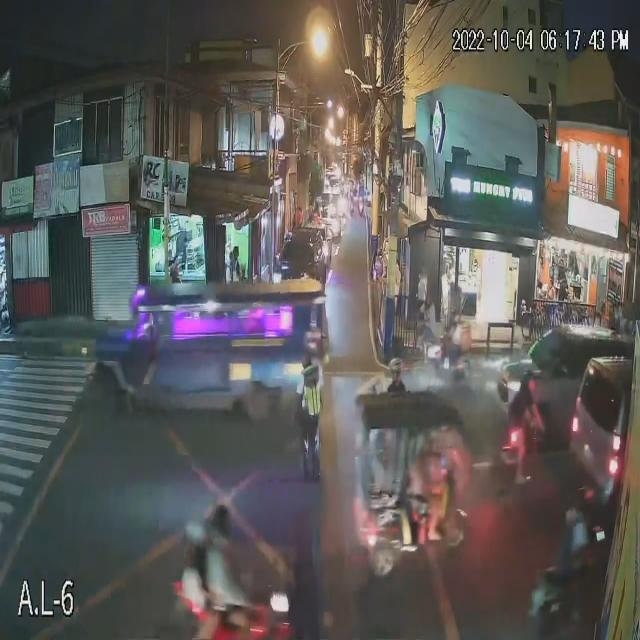helmet: (391, 359, 404, 373)
motorcycle: (174, 588, 303, 640), (529, 561, 601, 625)
rider: (211, 540, 229, 610), (188, 557, 203, 609)
